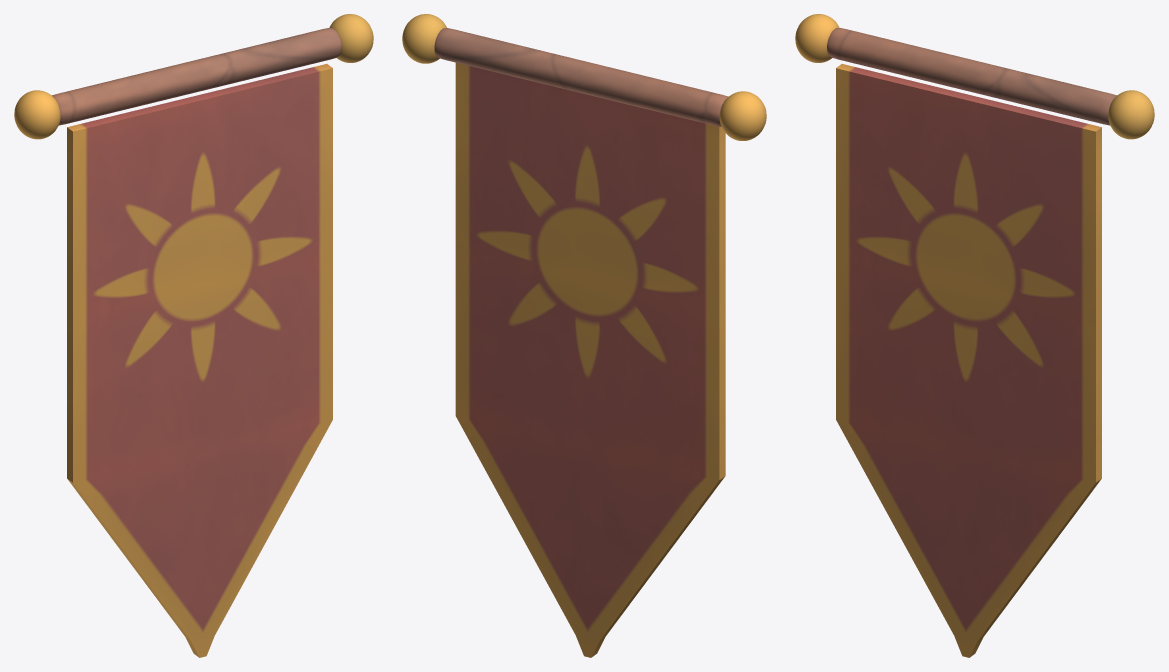
Rendered from SD_P09_Banner.fbx.
3 views of the same model, side by side, from view 1: azimuth 30°, elevation 25°; view 2: azimuth 150°, elevation 25°; view 3: azimuth 330°, elevation 25° (orthographic).
Visible parts, largest first — view 1: Cloth_01, Cloth_02, Cloth_03, Pole; view 2: Cloth_01, Cloth_02, Cloth_03, Pole; view 3: Cloth_01, Cloth_02, Cloth_03, Pole.
Boxes of the visible parts, box(x1,y1,x2,y2) form: Cloth_01: box(67, 64, 332, 317); Cloth_02: box(67, 254, 332, 482); Cloth_03: box(67, 419, 332, 657); Pole: box(14, 14, 373, 139); Cloth_01: box(455, 62, 725, 312); Cloth_02: box(455, 248, 725, 480); Cloth_03: box(456, 416, 724, 657); Pole: box(402, 14, 766, 140); Cloth_01: box(836, 64, 1101, 317); Cloth_02: box(836, 254, 1101, 482); Cloth_03: box(836, 419, 1101, 657); Pole: box(795, 14, 1154, 139).
Bounding box in the file's own units: 1 × 1.62 × 0.118.
